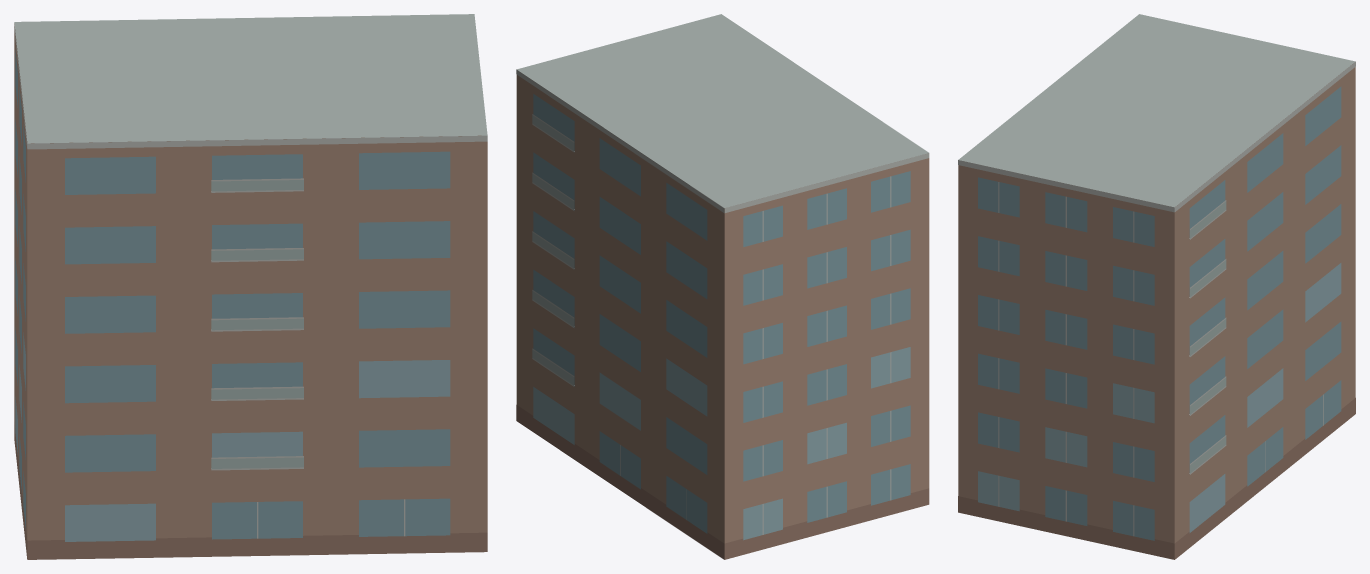
File: survey-upis-33046818.glb
The picture shows the model from 3 angles, left to right: view 1: azimuth 30°, elevation 25°; view 2: azimuth 150°, elevation 25°; view 3: azimuth 270°, elevation 25°; orthographic projection. The views are drawn at different scales.
Visible parts, largest first — view 1: survey-upis-33046818.tmp; view 2: survey-upis-33046818.tmp; view 3: survey-upis-33046818.tmp.
Part boxes in pixels (x1=…): survey-upis-33046818.tmp: x1=14, y1=14, x2=487, y2=559; survey-upis-33046818.tmp: x1=516, y1=14, x2=929, y2=559; survey-upis-33046818.tmp: x1=958, y1=14, x2=1355, y2=559.
Size of the model in its own units: 20.01 by 17 by 17.39.
